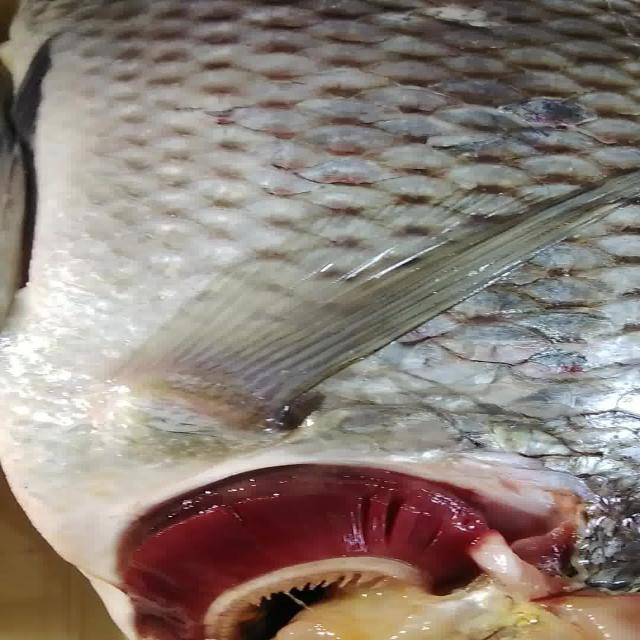Fresh: (88, 435, 531, 640)
